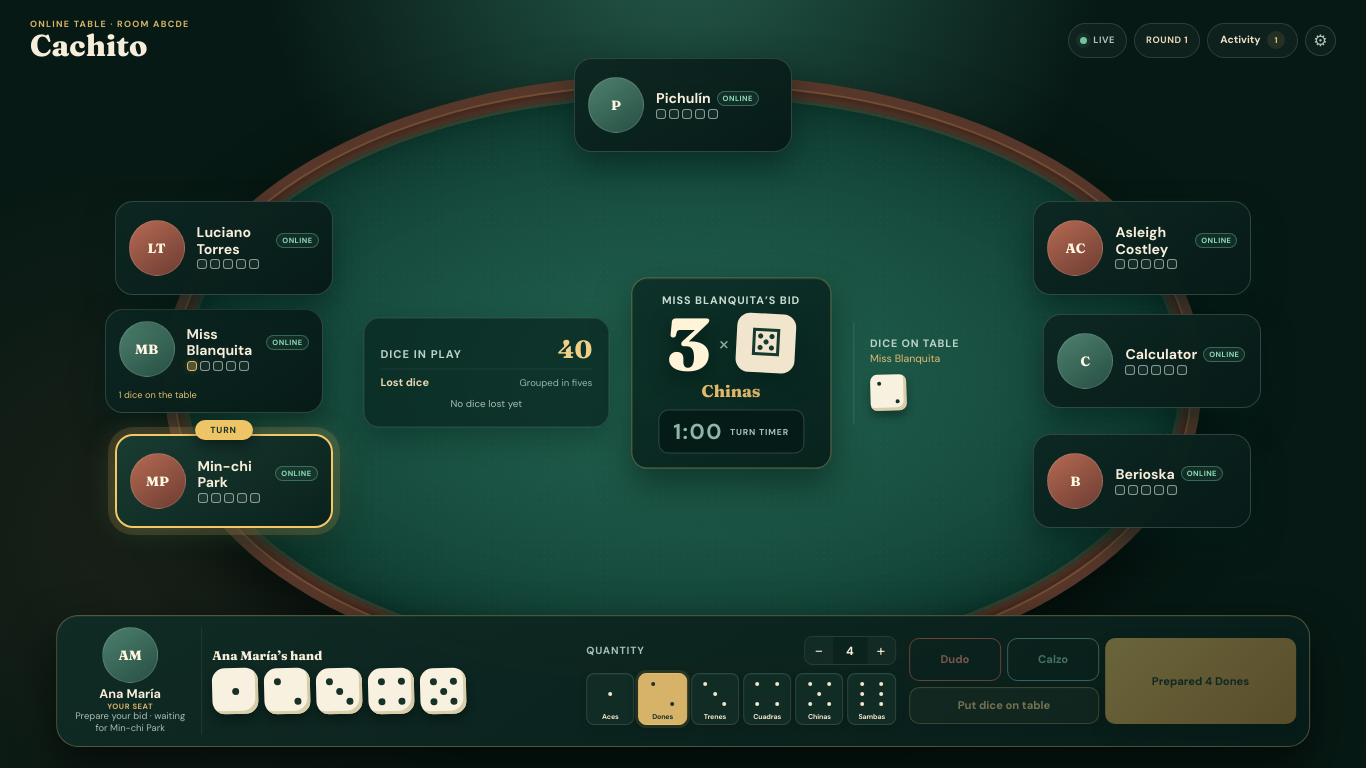
Test: OnlineGame connection lifecycle › opens a new round at quantity 1 instead of carrying the last one's climb over
The image size is (1366, 768).
Click the button named "Increase quantity" at x=881, y=651, box [867,637,895,664]
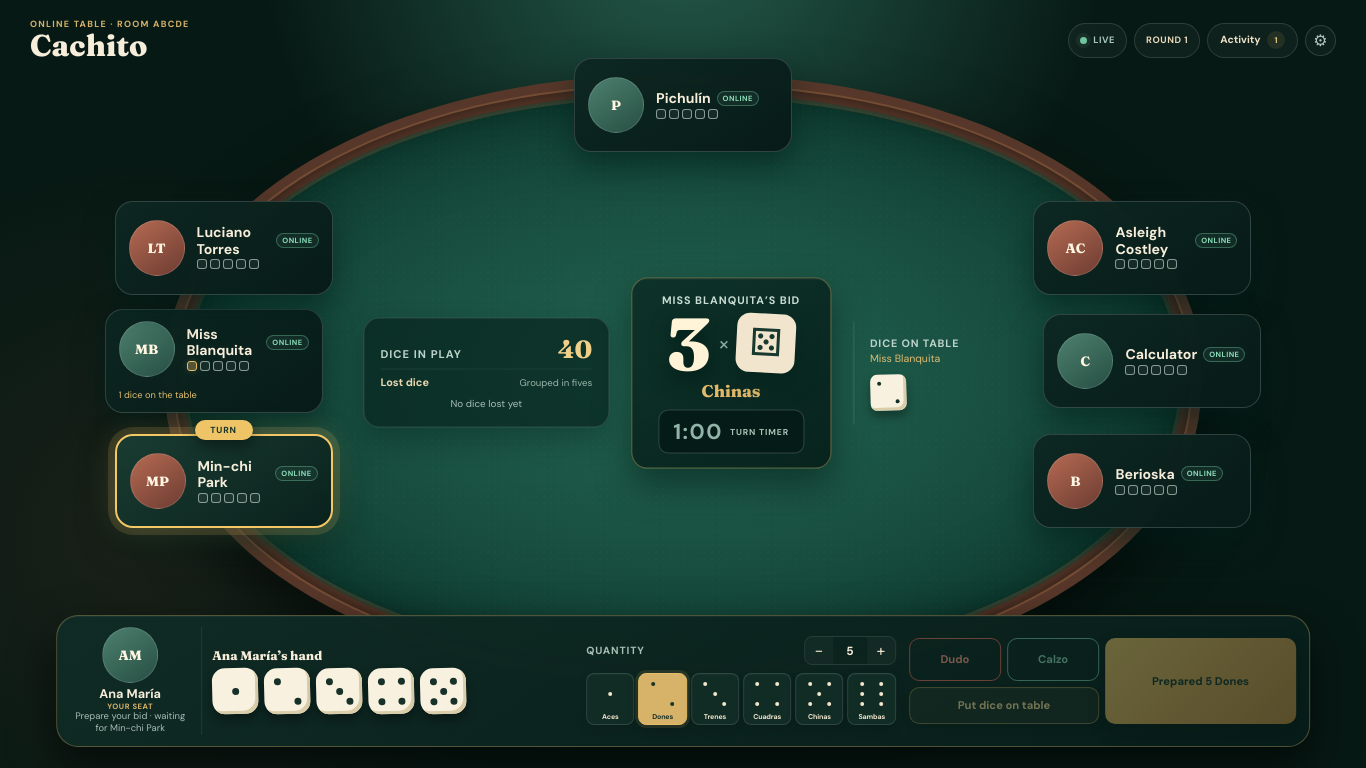
Click the button named "Increase quantity" at x=881, y=651, box [867,637,895,664]
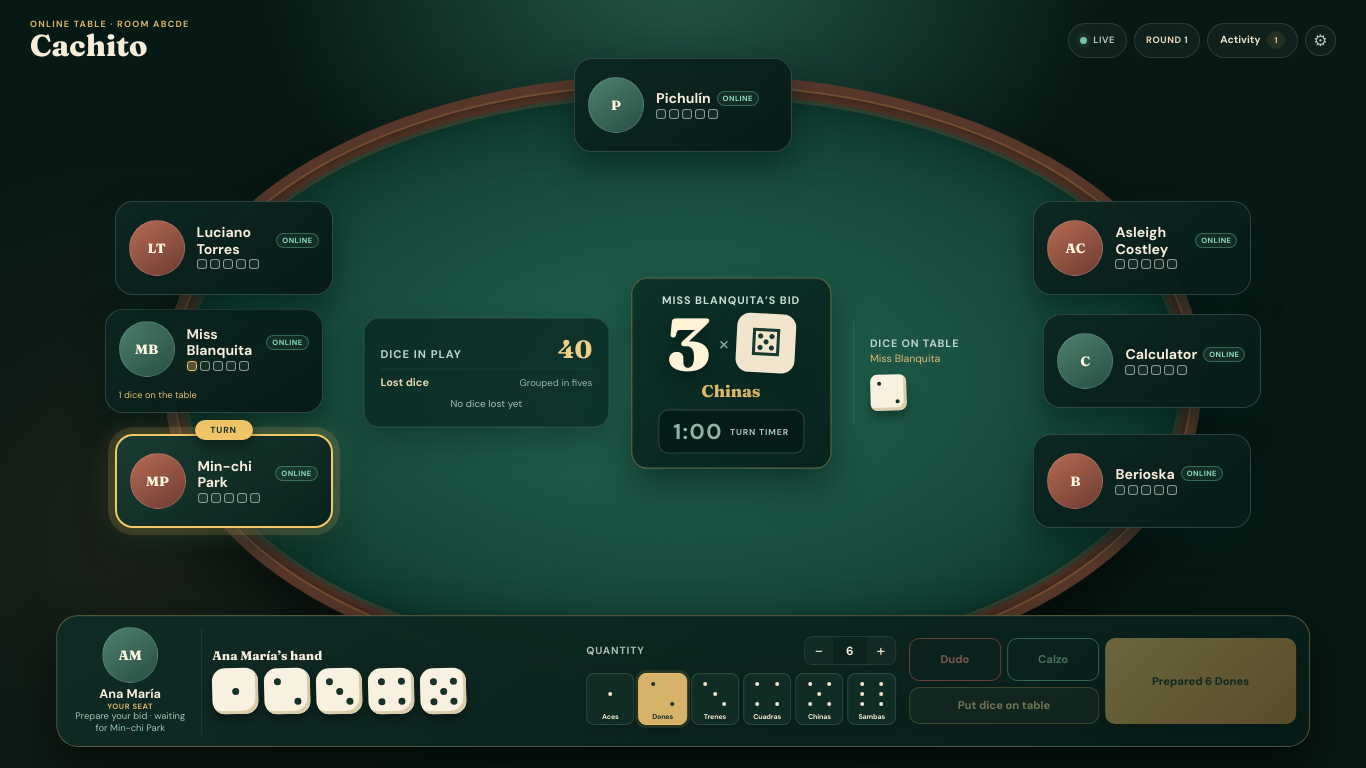
Click the button named "Increase quantity" at x=881, y=651, box [867,637,895,664]
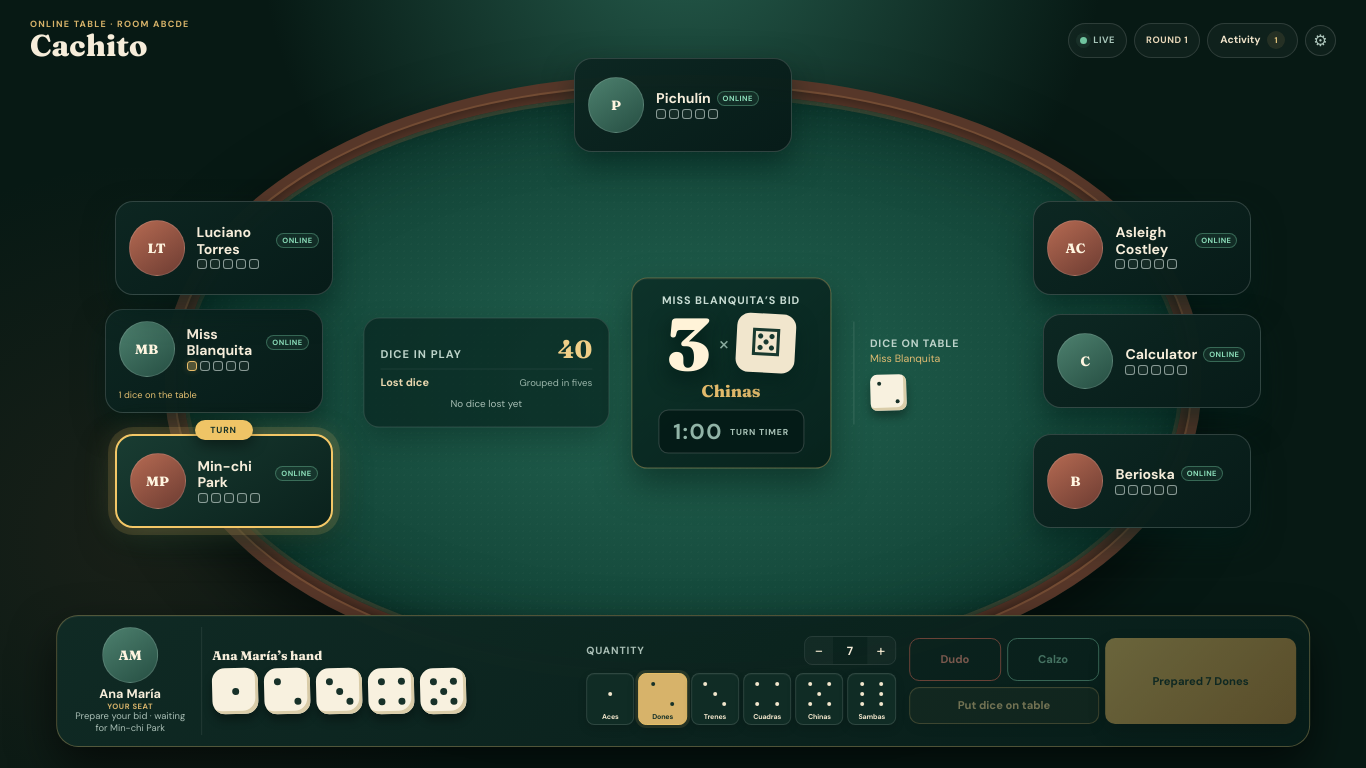
Click the button named "Increase quantity" at x=881, y=651, box [867,637,895,664]
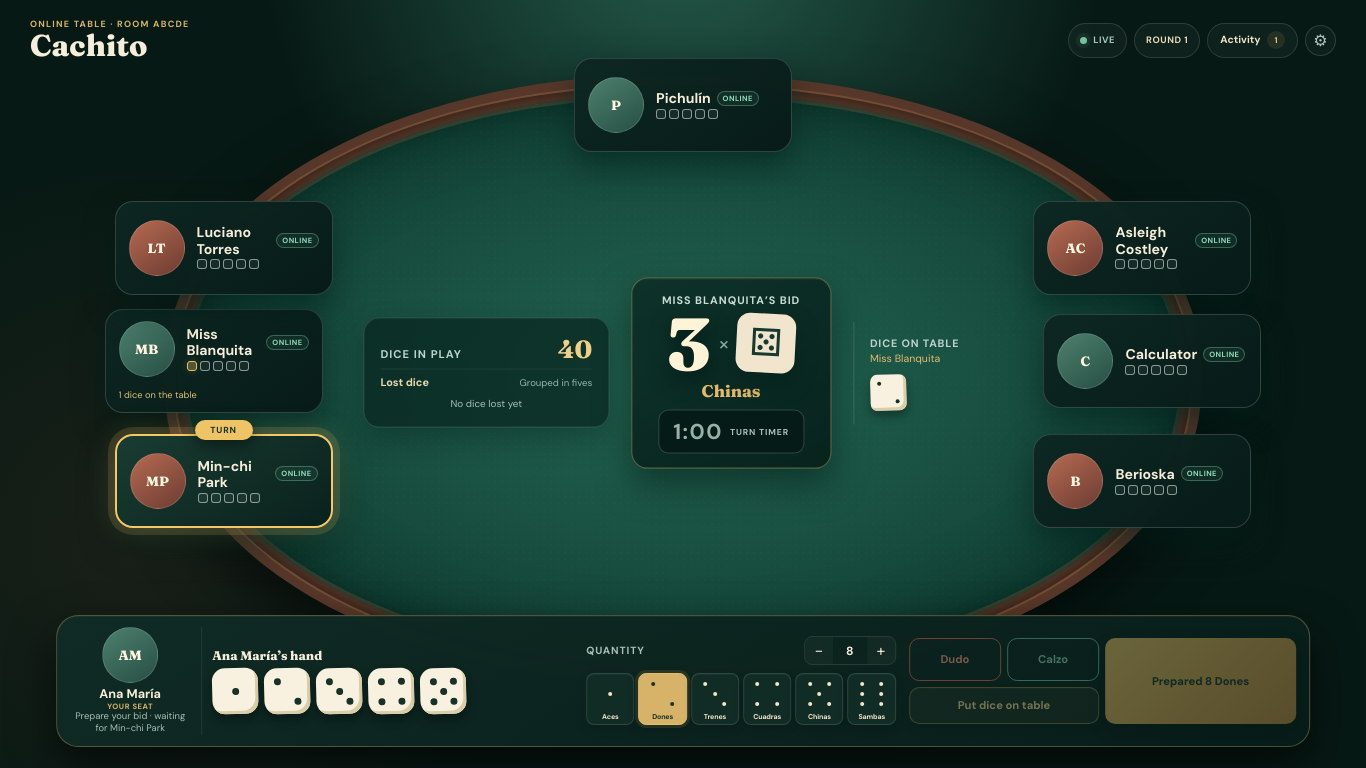
Click the button named "Increase quantity" at x=881, y=651, box [867,637,895,664]
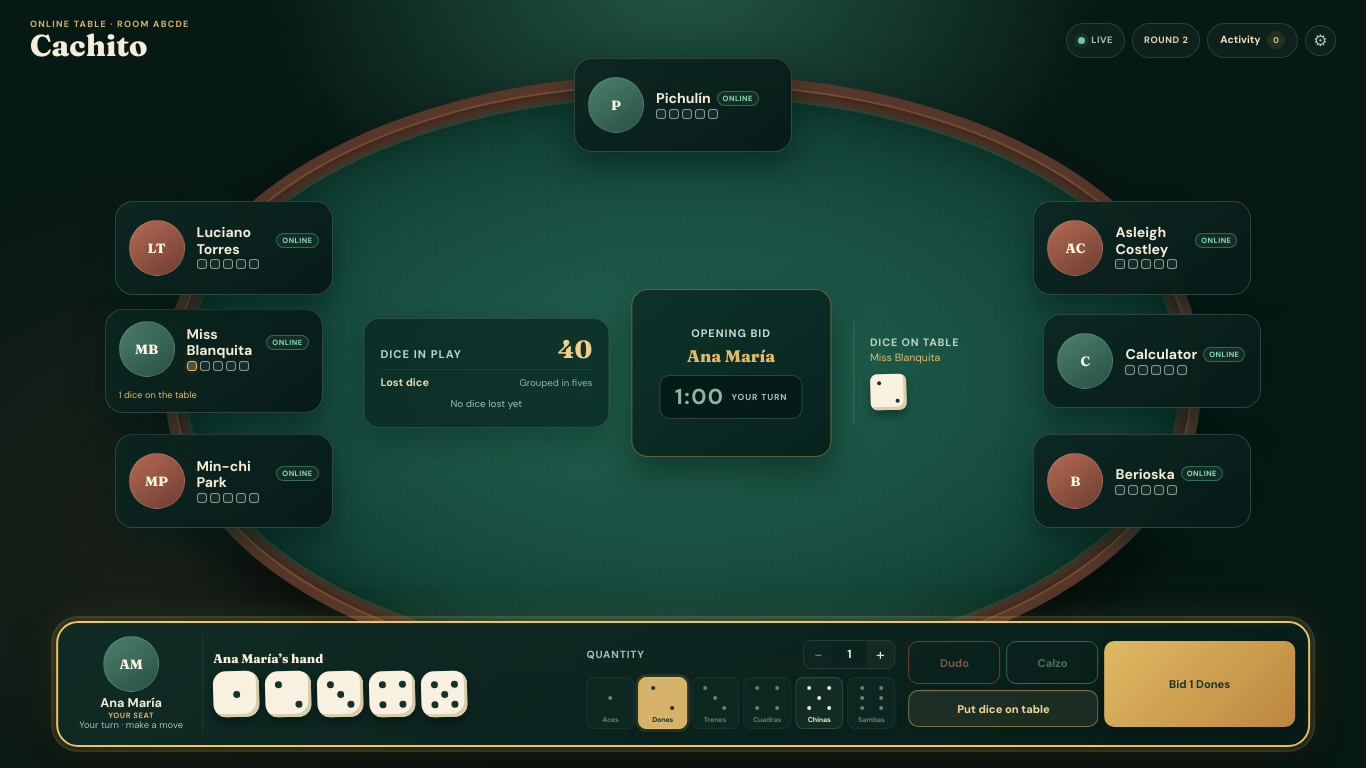
expect the button "Bid 1 Dones" is enabled: met, box [1105,641,1295,727]
